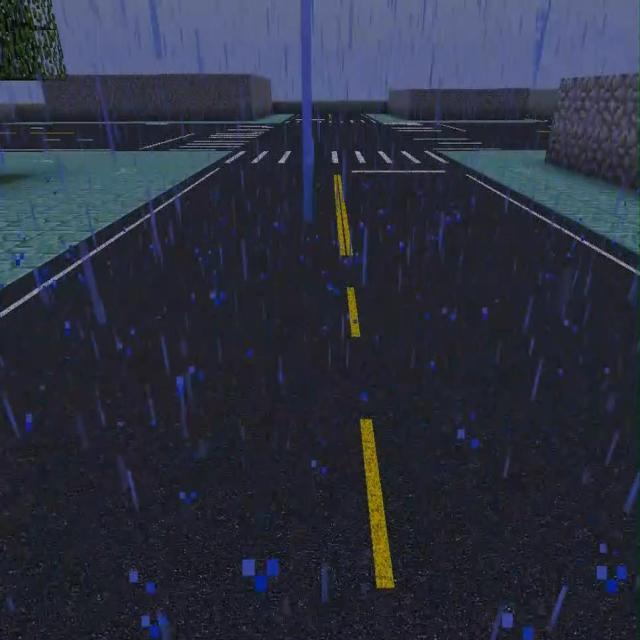8: (220, 149, 455, 164), (388, 123, 497, 149), (171, 125, 273, 150), (282, 118, 384, 126)
crosswalk: (0, 164, 639, 639), (1, 127, 220, 149), (246, 128, 427, 149), (442, 124, 553, 147)
road: (0, 150, 230, 296), (443, 151, 639, 255), (1, 112, 294, 126), (368, 112, 550, 126)
